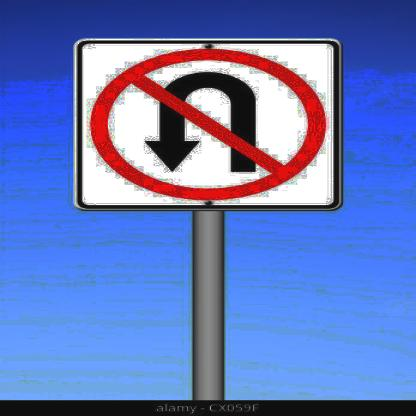No U-turn: (71, 35, 343, 208)
